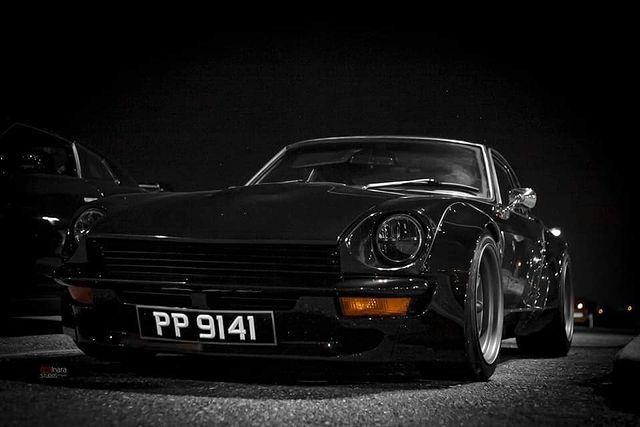License-Plate: (142, 307, 271, 336)
